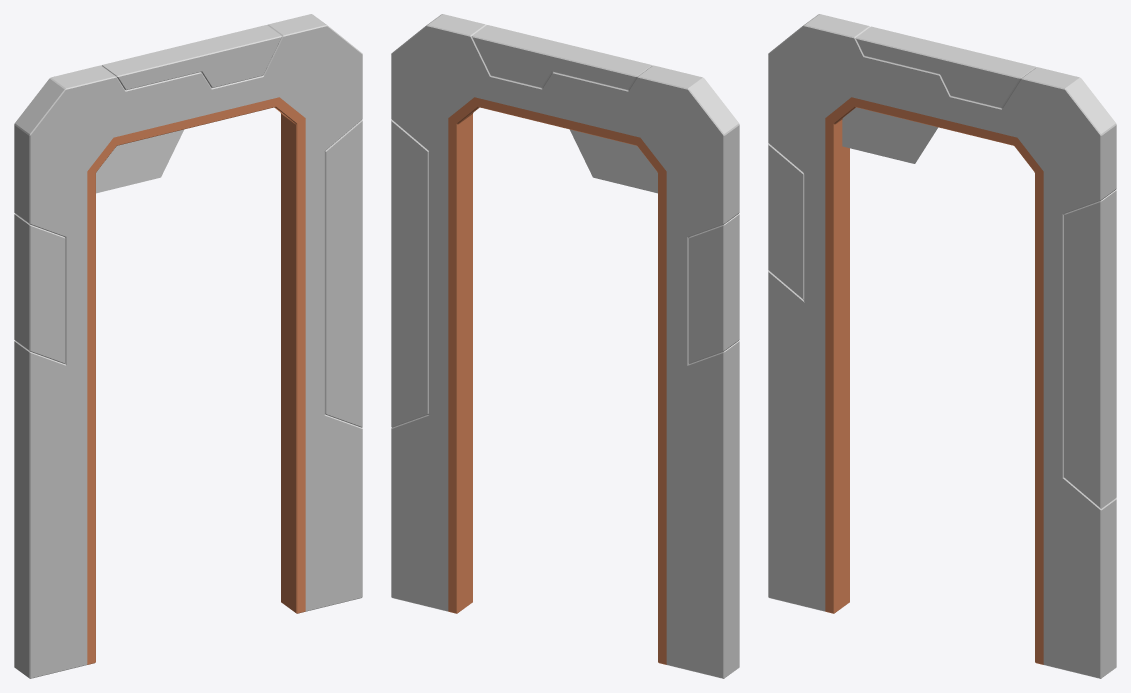
Rendered from SM_Screen_D14_Microwave.fbx.
3 views of the same model, side by side, from view 1: azimuth 30°, elevation 25°; view 2: azimuth 150°, elevation 25°; view 3: azimuth 330°, elevation 25° (orthographic).
Parts seen in each view (by area): view 1: Plane; view 2: Plane; view 3: Plane.
Boxes of the visible parts, box(x1,y1,x2,y2) form: Plane: box(14, 14, 362, 678); Plane: box(391, 14, 739, 678); Plane: box(768, 14, 1116, 678).
Bounding box in the file's own units: 120 × 200 × 10.
